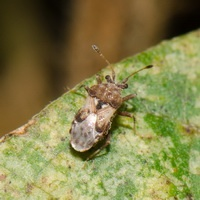insect: (70, 45, 152, 151)
